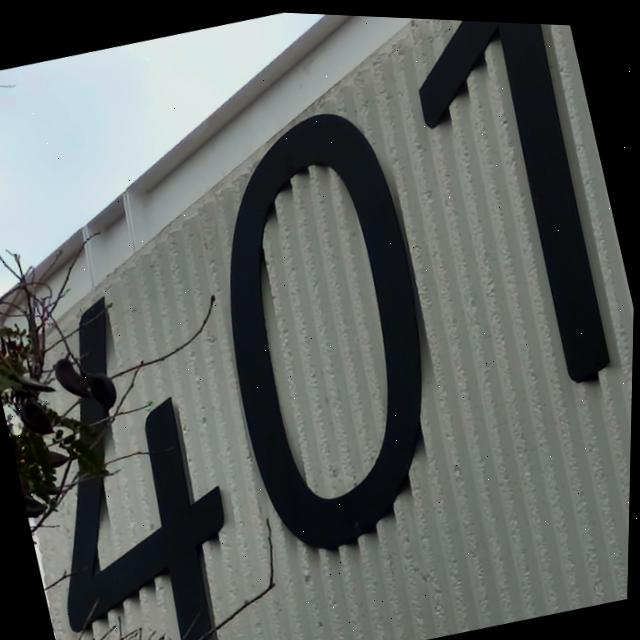character: (161, 91, 488, 579), (379, 17, 634, 417), (0, 267, 268, 640)
